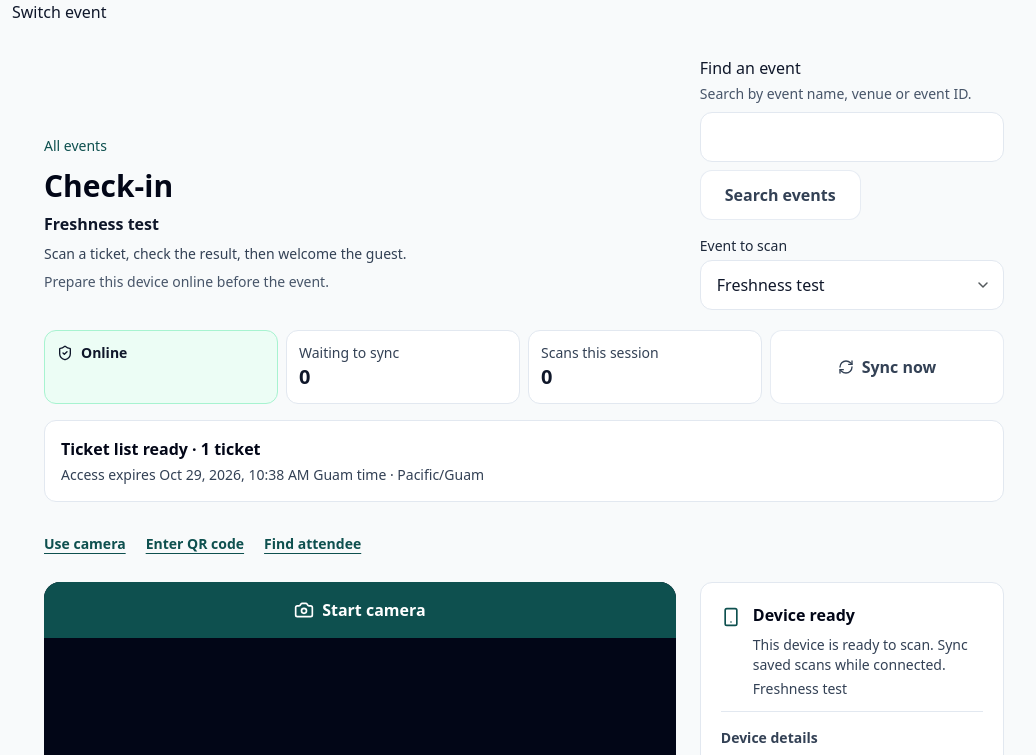
Scenario: online unknown credential recovery › keeps a verified saved list and retained journal after unknown manifest 422, then admits a known credential
The image size is (1036, 755).
Click the heading "Device details": click(769, 738) [721,728,818,747]
(page scrolled)
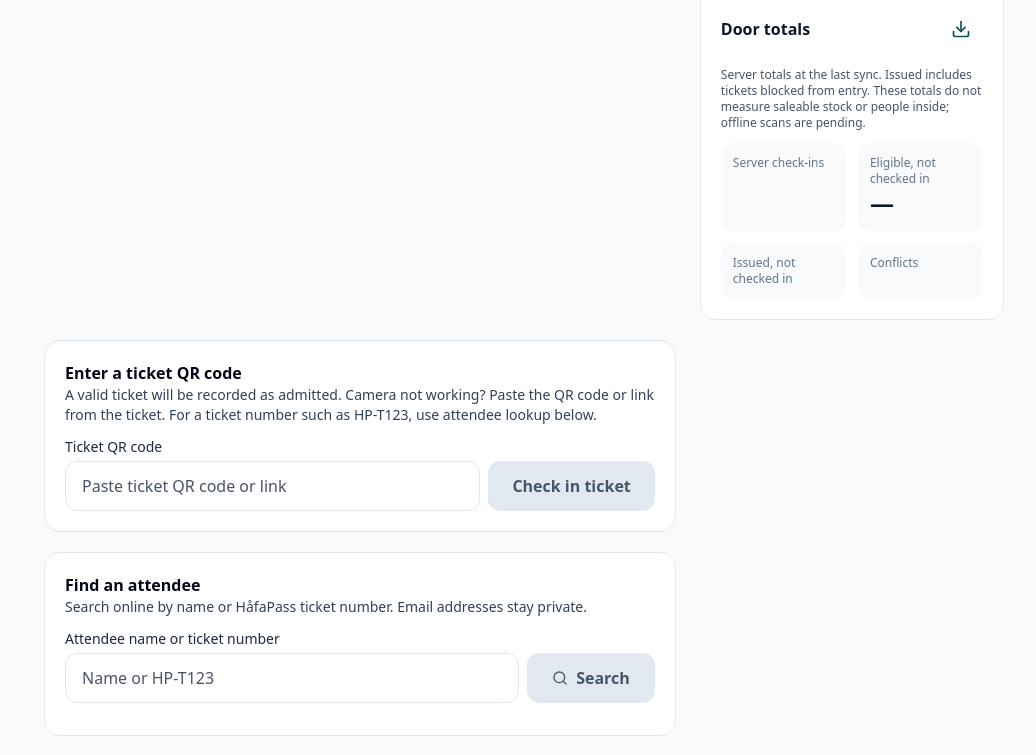
In the field labelled "Ticket QR code": (273, 486) [65,461,480,511], type "unfamiliar"
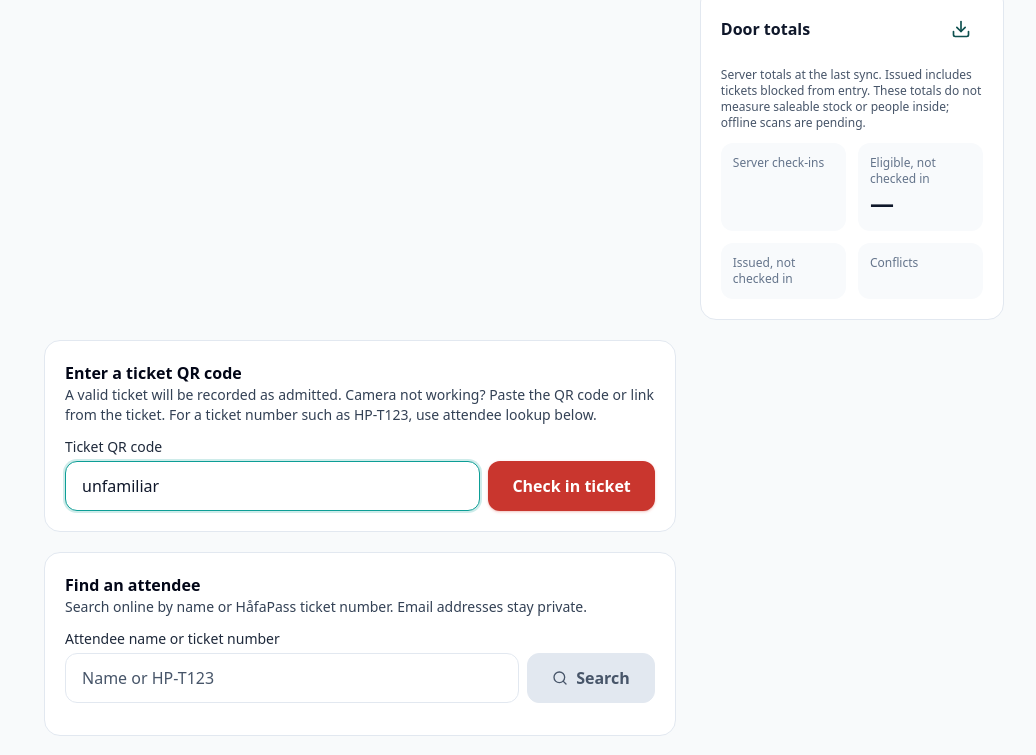
Click the button "Check in ticket": click(572, 486) [488,461,655,511]
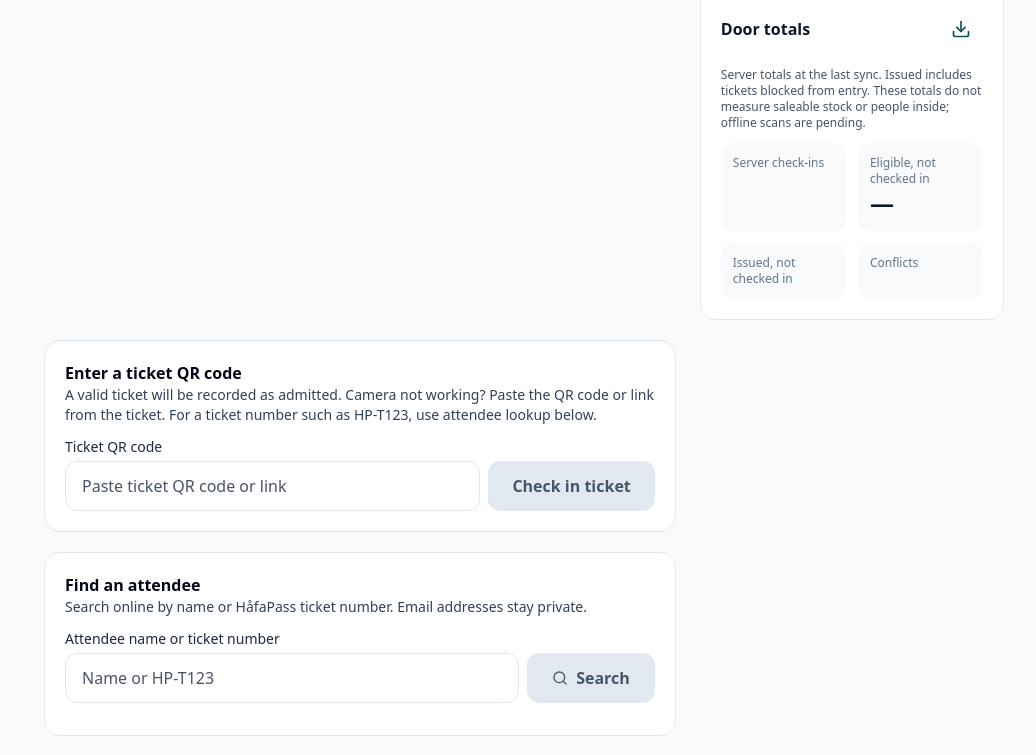
In the field labelled "Ticket QR code": (273, 486) [65,461,480,511], type "known-qr"
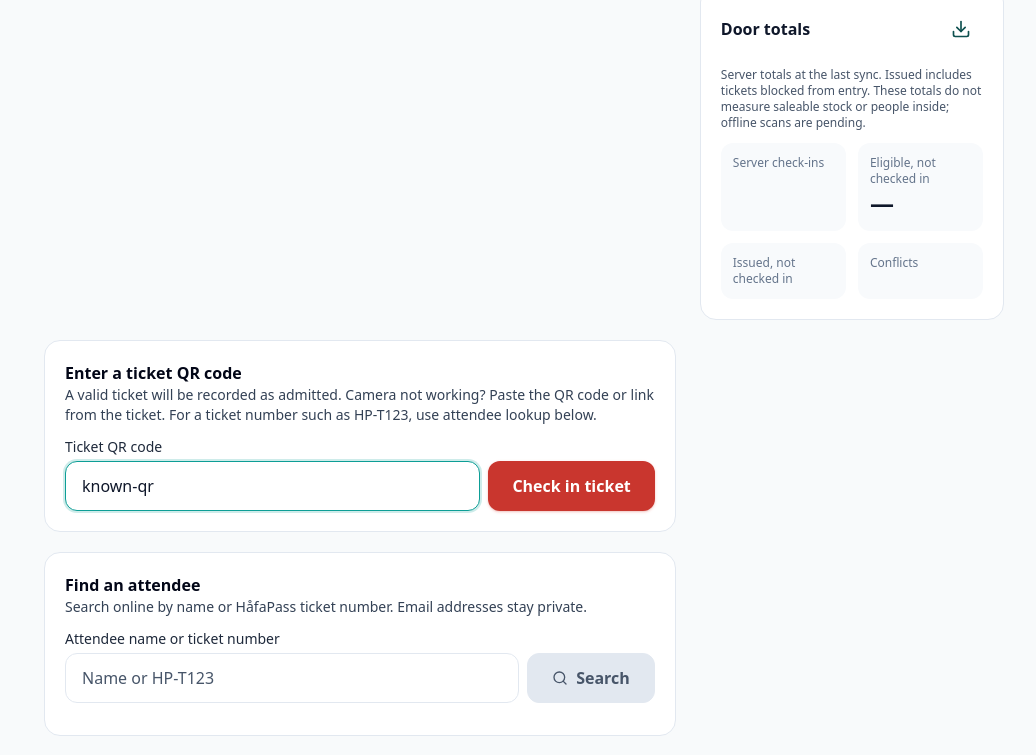
Click the button "Check in ticket": click(572, 486) [488,461,655,511]
(page scrolled)
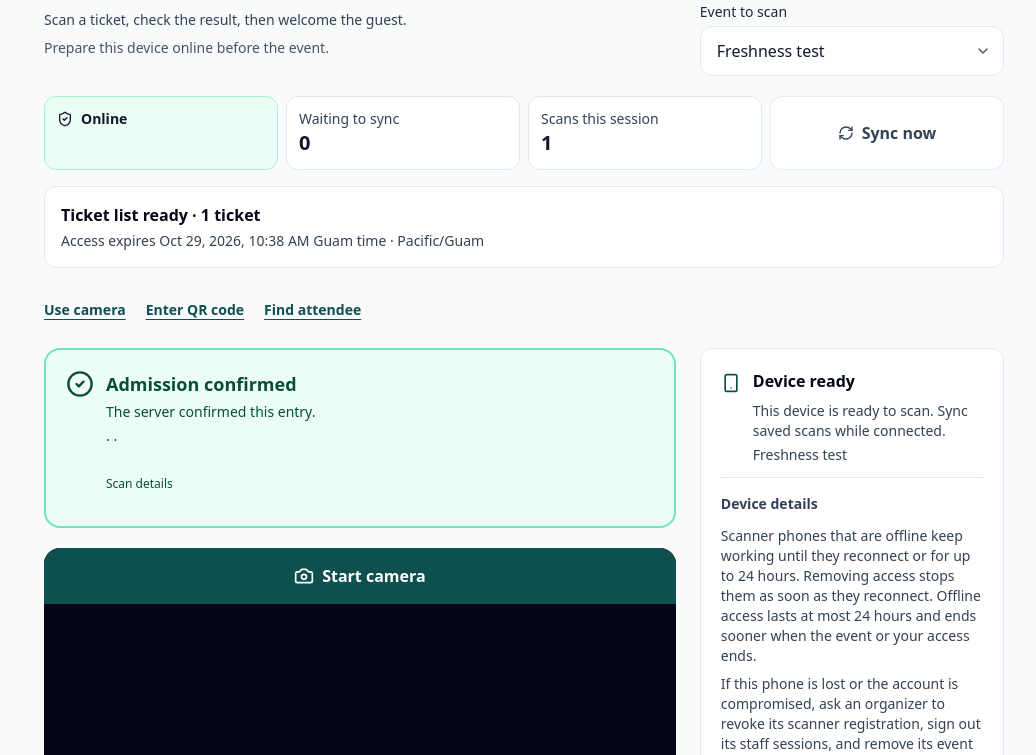
Check: the text "Admission confirmed" is shown, box [106,370,316,398]
